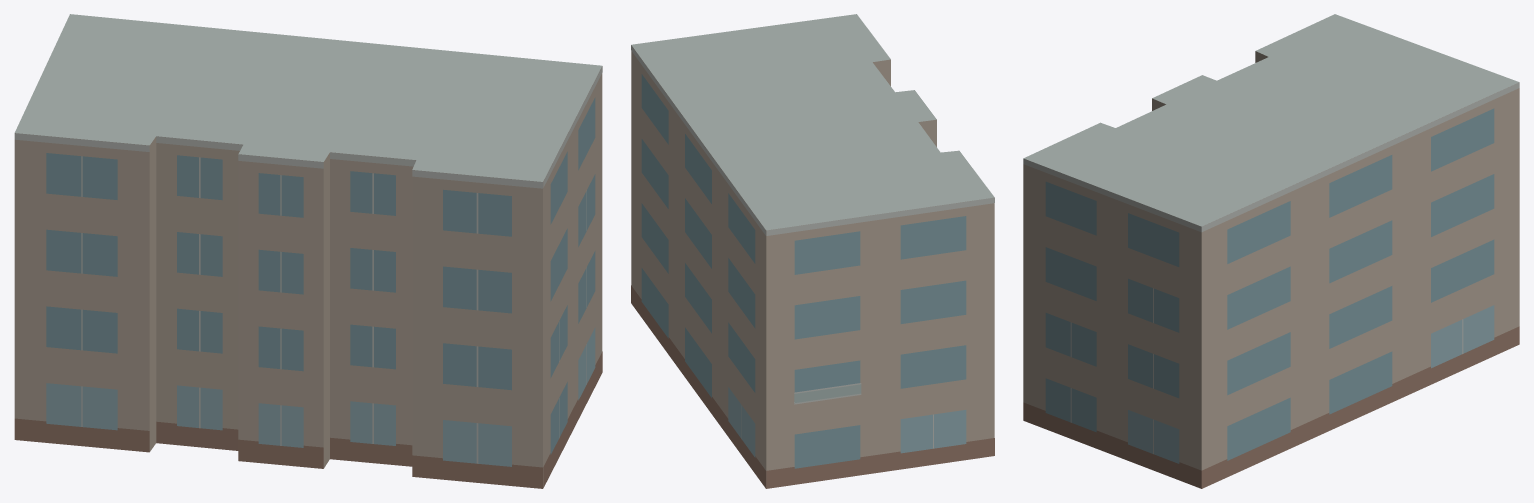
The model's file is survey-upis-32528848.glb.
3 views of the same model, side by side, from view 1: azimuth 30°, elevation 25°; view 2: azimuth 150°, elevation 25°; view 3: azimuth 270°, elevation 25° (orthographic). The views are drawn at different scales.
Visible parts, largest first — view 1: survey-upis-32528848.tmp; view 2: survey-upis-32528848.tmp; view 3: survey-upis-32528848.tmp.
Boxes of the visible parts, x1,y1,x2,y2 form: survey-upis-32528848.tmp: (14,14,602,488); survey-upis-32528848.tmp: (631,14,994,488); survey-upis-32528848.tmp: (1023,14,1519,488).
Size of the model in its own units: 19.48 by 11.2 by 19.22.
